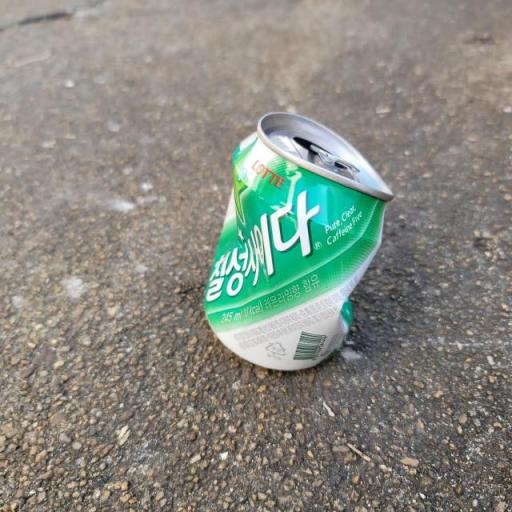metal: (194, 97, 406, 398)
